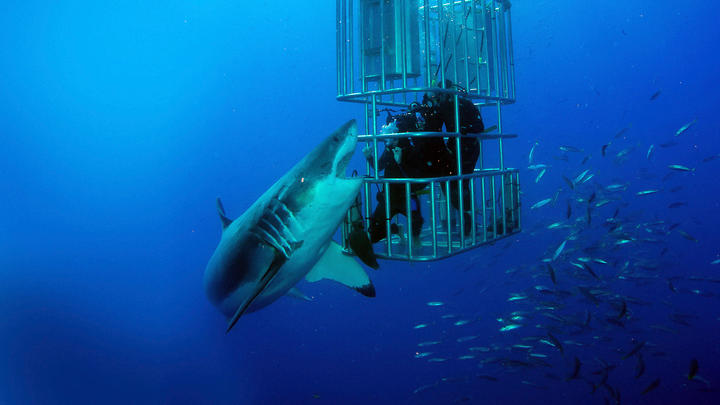shark: (195, 118, 376, 338)
